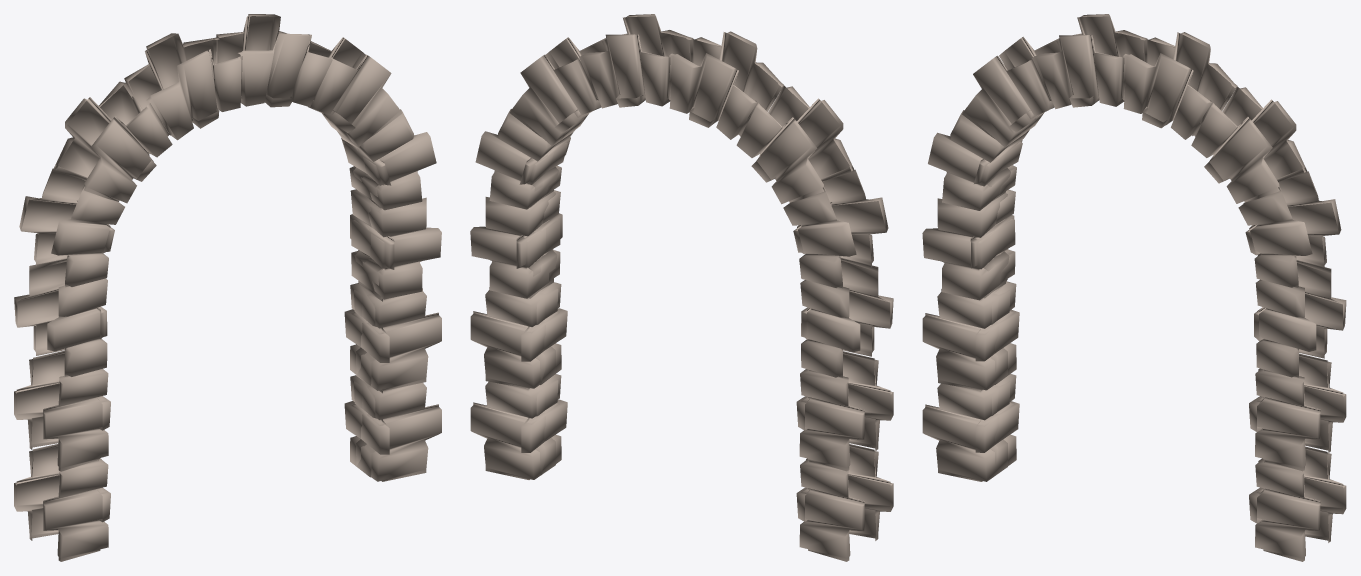
Rendered from Arco_obj.obj.
3 views of the same model, side by side, from view 1: azimuth 30°, elevation 25°; view 2: azimuth 150°, elevation 25°; view 3: azimuth 330°, elevation 25° (orthographic).
Visible parts, largest first — view 1: Group12586, Group12591, Group12587, Group12584, Group12580, Group12578, Group12583, Group36892, Group12589, Group12588, Group12581, Group12582 (+12 smaller); view 2: Group36893, Group36898, Group36894, Group36895, Group36899, Group36902, Group36903, Group36896, Group36904, Group36897, Group36900, Group36901 (+12 smaller); view 3: Group12580, Group12578, Group12581, Group12582, Group12586, Group12589, Group12591, Group12583, Group36892, Group12584, Group12587, Group12588 (+12 smaller).
Boxes of the visible parts, x1,y1,x2,y2 form: Group12586: (344,288,441,390); Group12591: (344,381,441,481); Group12587: (350,197,441,299); Group12584: (146,49,242,140); Group12580: (43,369,108,471); Group12578: (43,459,108,561); Group12583: (82,103,172,203); Group36892: (238,33,332,106); Group12589: (311,54,402,146); Group12588: (341,109,436,210); Group12581: (47,278,107,376); Group12582: (51,186,124,287); Group36893: (470,283,567,388); Group36898: (470,379,567,479); Group36894: (470,191,562,298); Group36895: (475,109,570,209); Group36899: (799,369,864,471); Group36902: (736,100,825,204); Group36903: (799,459,864,561); Group36896: (509,54,600,146); Group36904: (669,53,757,139); Group36897: (579,34,670,108); Group36900: (800,280,860,377); Group36901: (783,187,856,288); Group12580: (922,285,1019,390); Group12578: (922,381,1019,481); Group12581: (922,193,1014,300); Group12582: (928,110,1022,210); Group12586: (1255,369,1320,471); Group12589: (1191,100,1280,203); Group12591: (1255,459,1320,561); Group12583: (962,55,1054,147); Group36892: (1123,53,1211,139); Group12584: (1032,35,1124,109); Group12587: (1255,279,1316,377); Group12588: (1238,187,1312,287).
Size of the model in its own units: 9.46 by 10.84 by 1.73.
